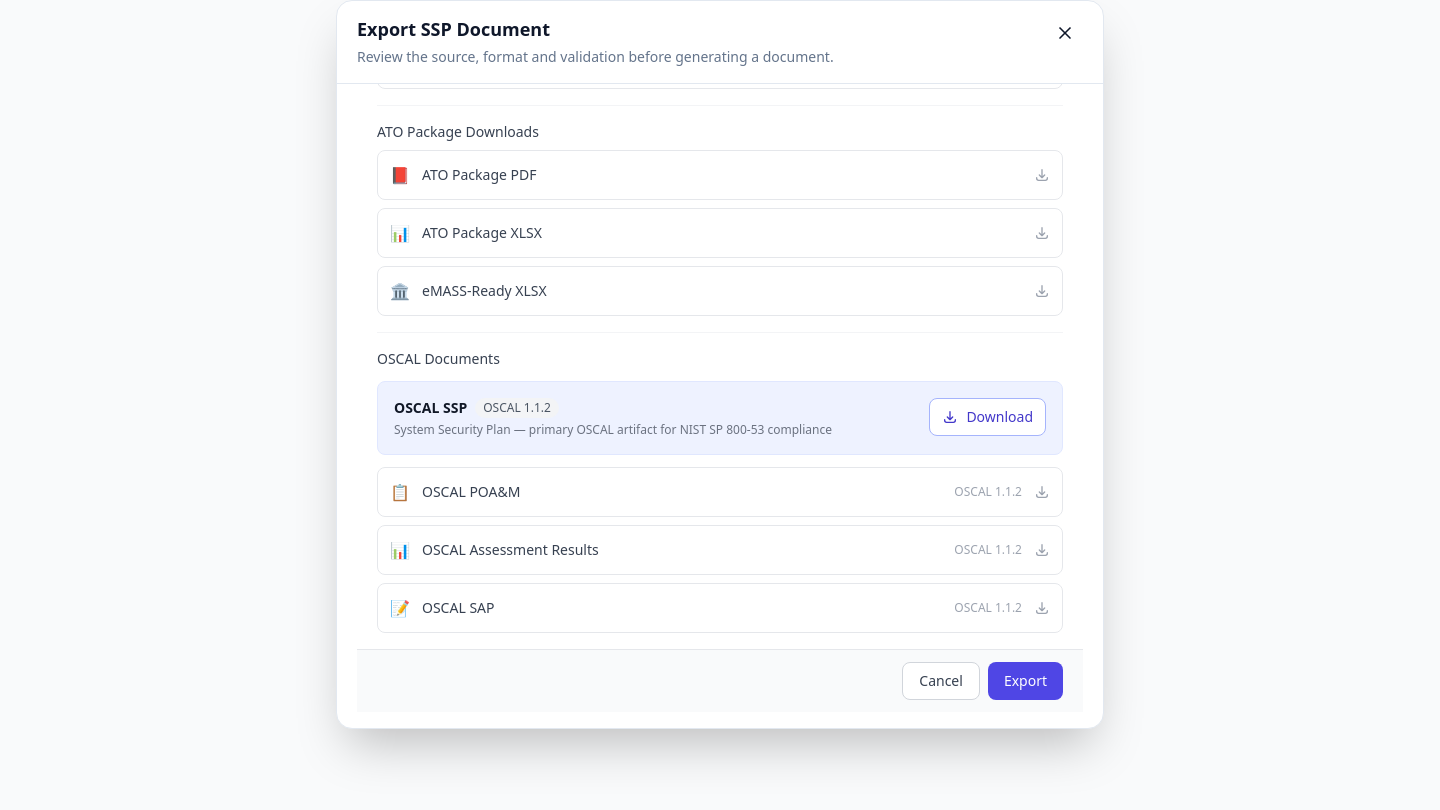
Test: cookie-session progress clients › shows the actual polled SSP status without inventing detailed progress percentages
(page scrolled)
Click the button "Export" at (1025, 681), box [988,662,1063,700]
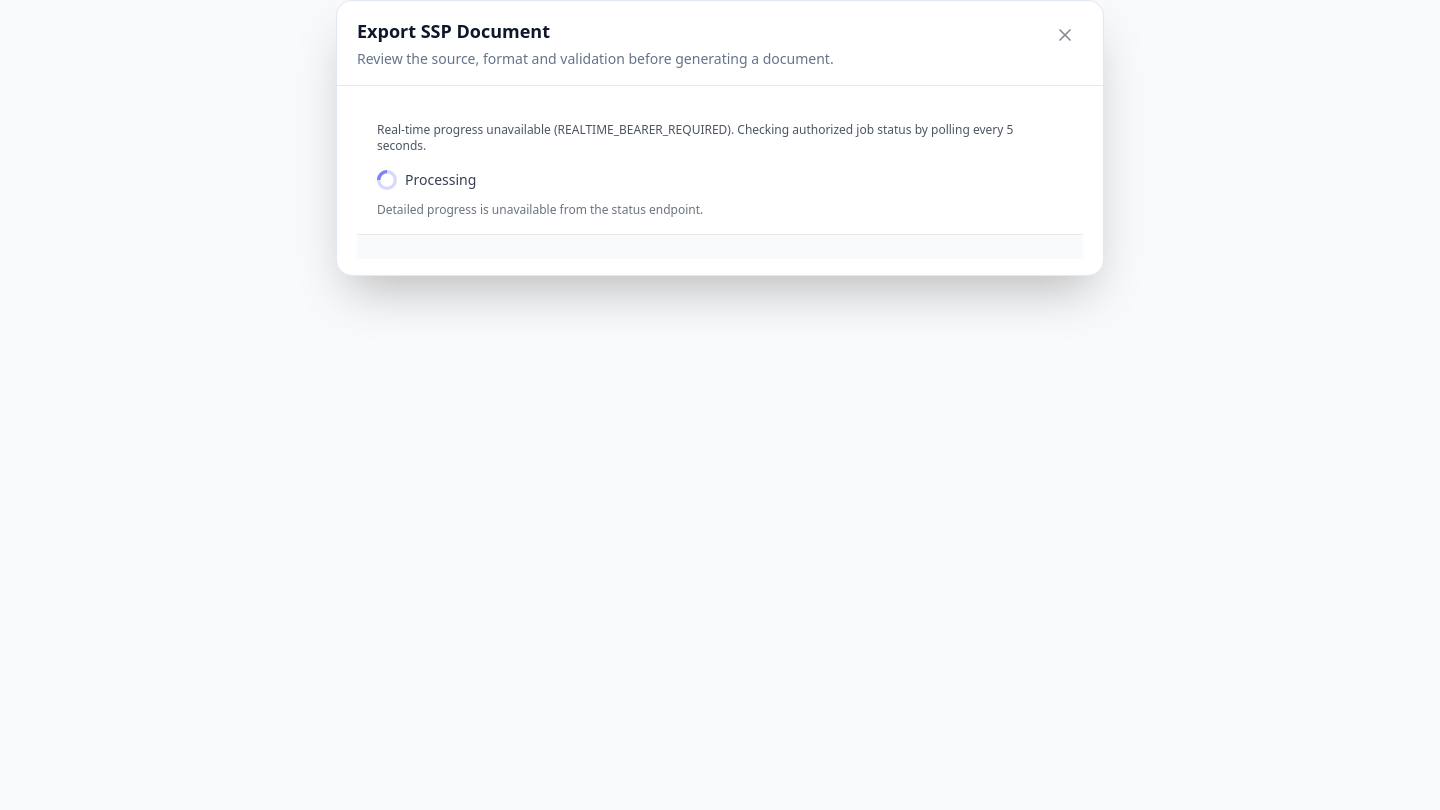
Check: the text "Processing" is shown, box [405,170,476,190]
Check: the text "Detailed progress is unavailable from the status endpoint." is shown, box [377,201,703,218]
Check: the message named "Export processing" is shown, box [377,170,397,190]
